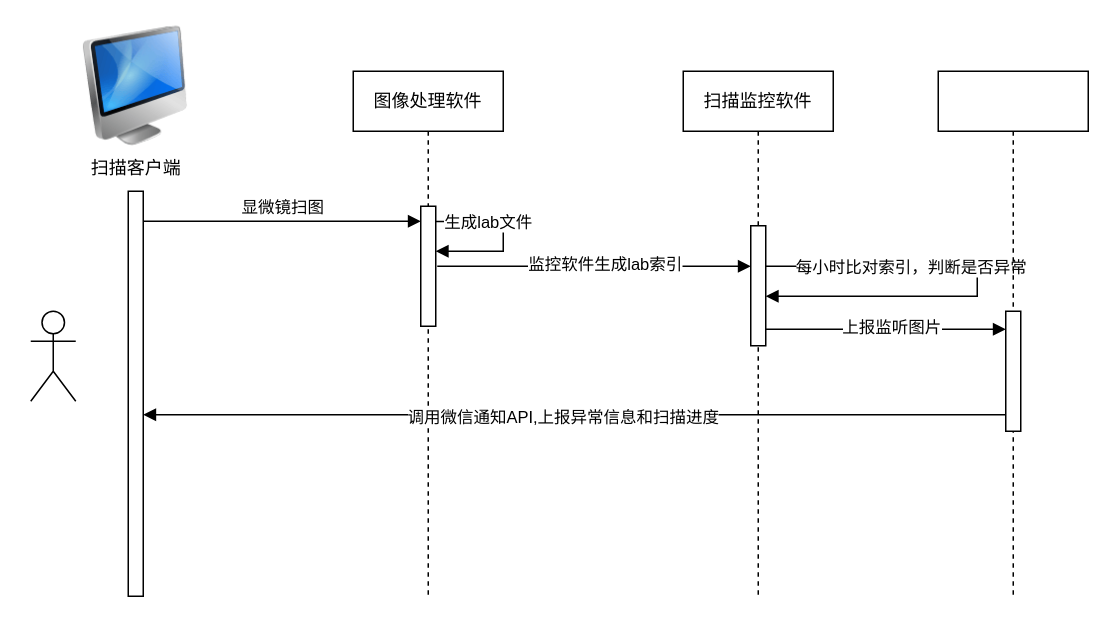
Some shapes in this 1115 by 623 pixel diagram are drawn without their labels. The shapes that lost their labels are listed below. From the top down, each one's centre as x and y in pixels, then its label:
At point (1012, 333): "服务器".
At point (52, 355): "责任人".
